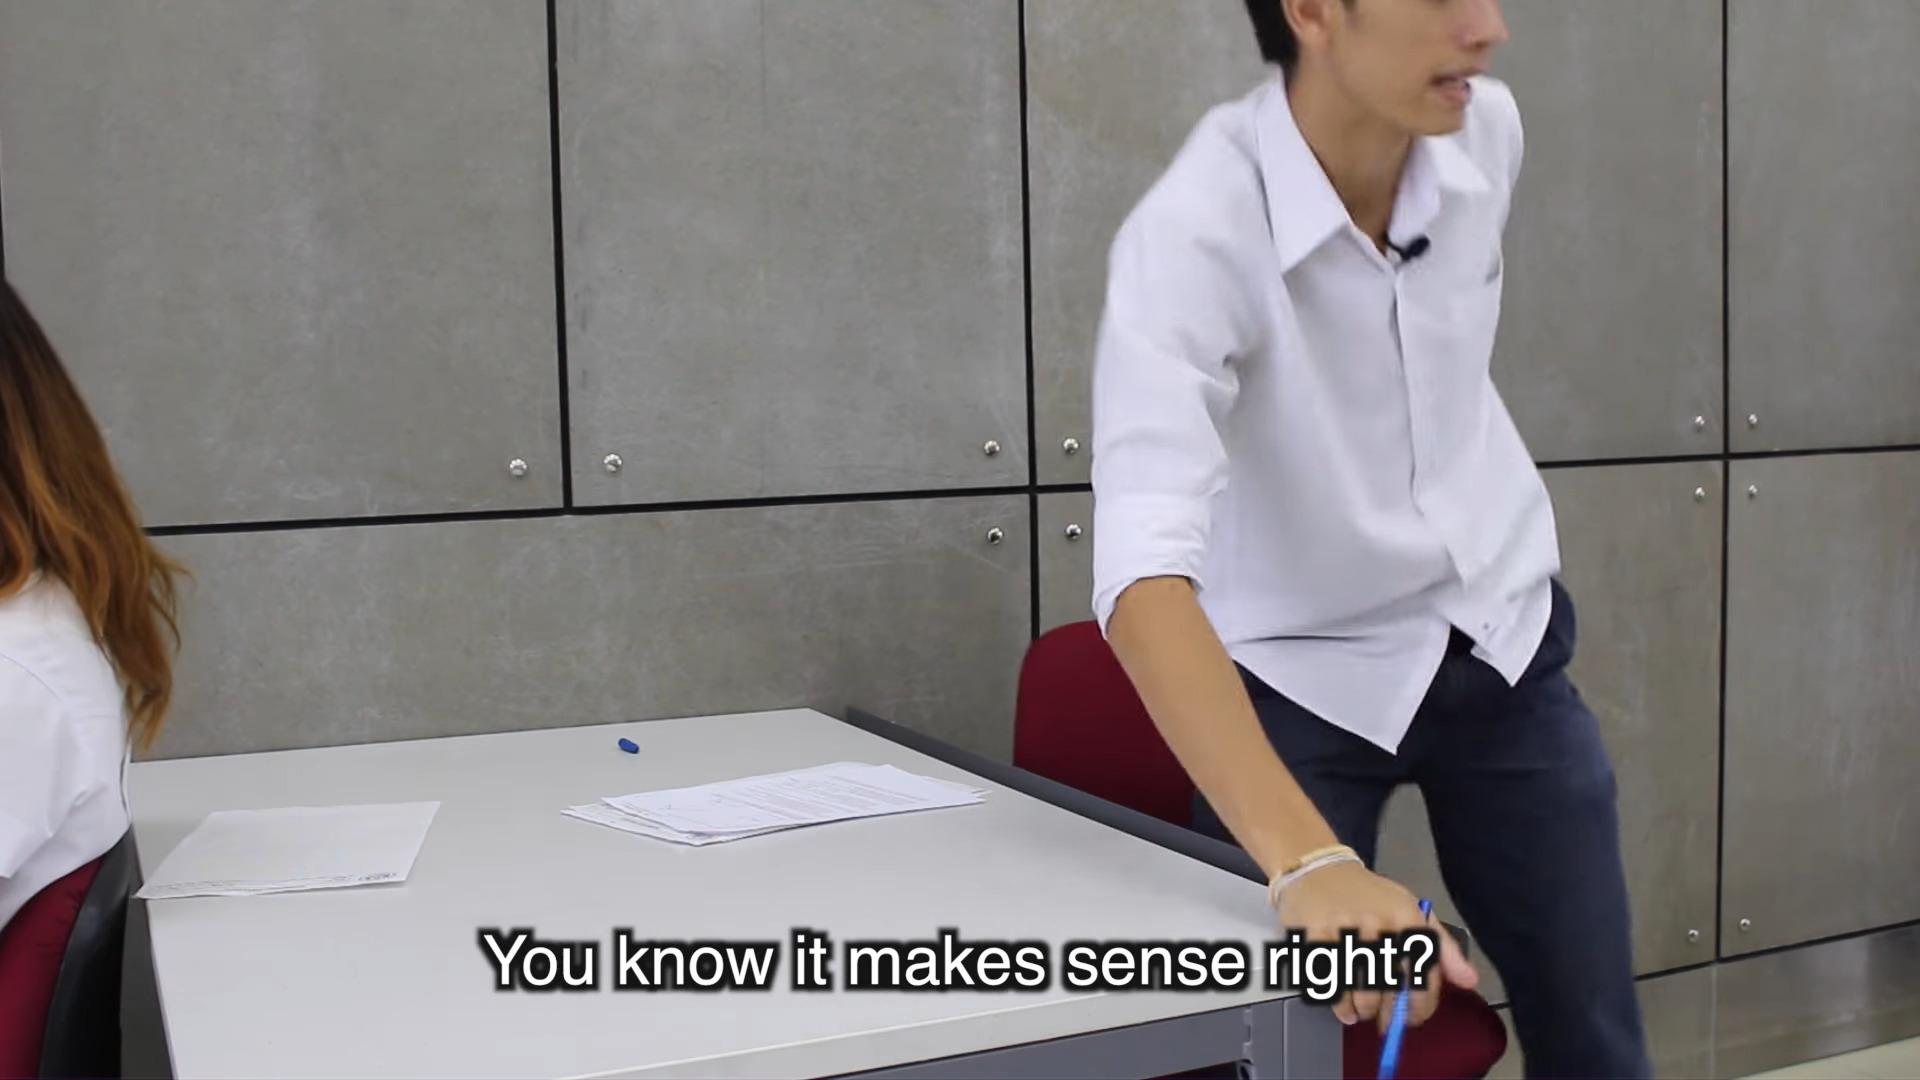cheating: (518, 0, 1630, 897)
